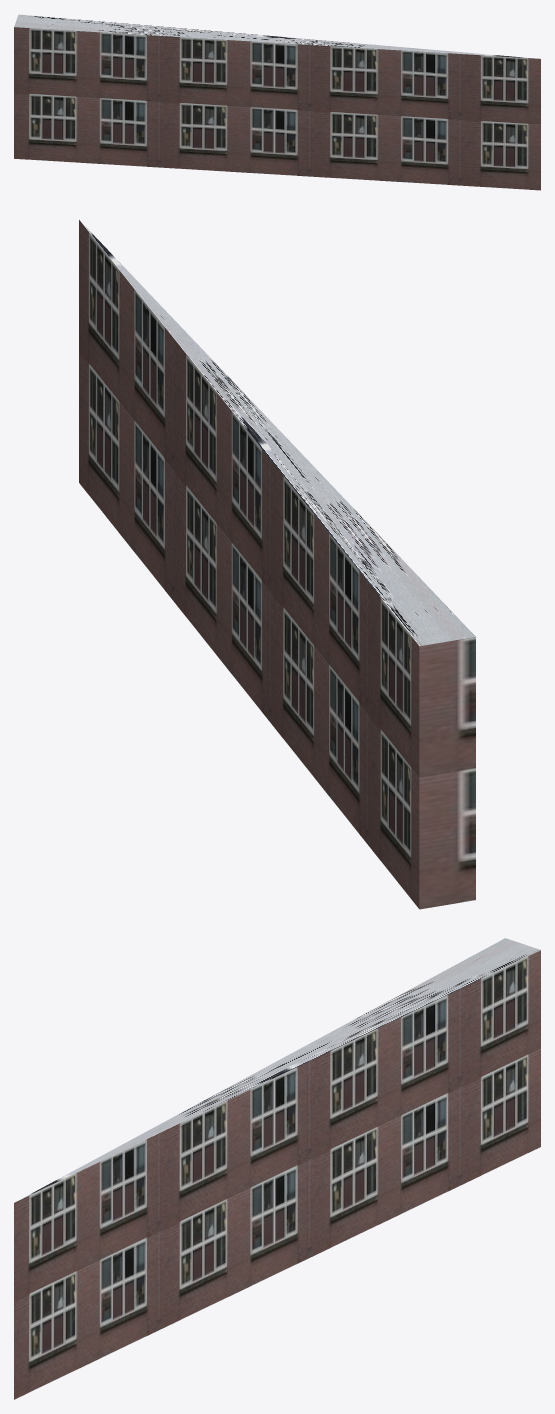
File: ResTex__4684.fbx
The picture shows the model from 3 angles, top to bottom: view 1: azimuth 30°, elevation 25°; view 2: azimuth 150°, elevation 25°; view 3: azimuth 270°, elevation 25°; orthographic projection. The views are drawn at different scales.
Visible parts, largest first — view 1: CityEngineMaterial_12_m, CityEngineMaterial_4_m; view 2: CityEngineMaterial_12_m, CityEngineMaterial_4_m; view 3: CityEngineMaterial_12_m, CityEngineMaterial_4_m.
Part boxes in pixels (x1,y1,x2,y2): CityEngineMaterial_12_m: (14, 27, 540, 190); CityEngineMaterial_4_m: (14, 14, 536, 58); CityEngineMaterial_12_m: (79, 220, 475, 909); CityEngineMaterial_4_m: (80, 221, 475, 646); CityEngineMaterial_12_m: (14, 950, 540, 1399); CityEngineMaterial_4_m: (16, 938, 540, 1201).
Bounding box in the file's own units: 17.31 × 6 × 14.55.
Materials: 2 (2 with a texture image).
